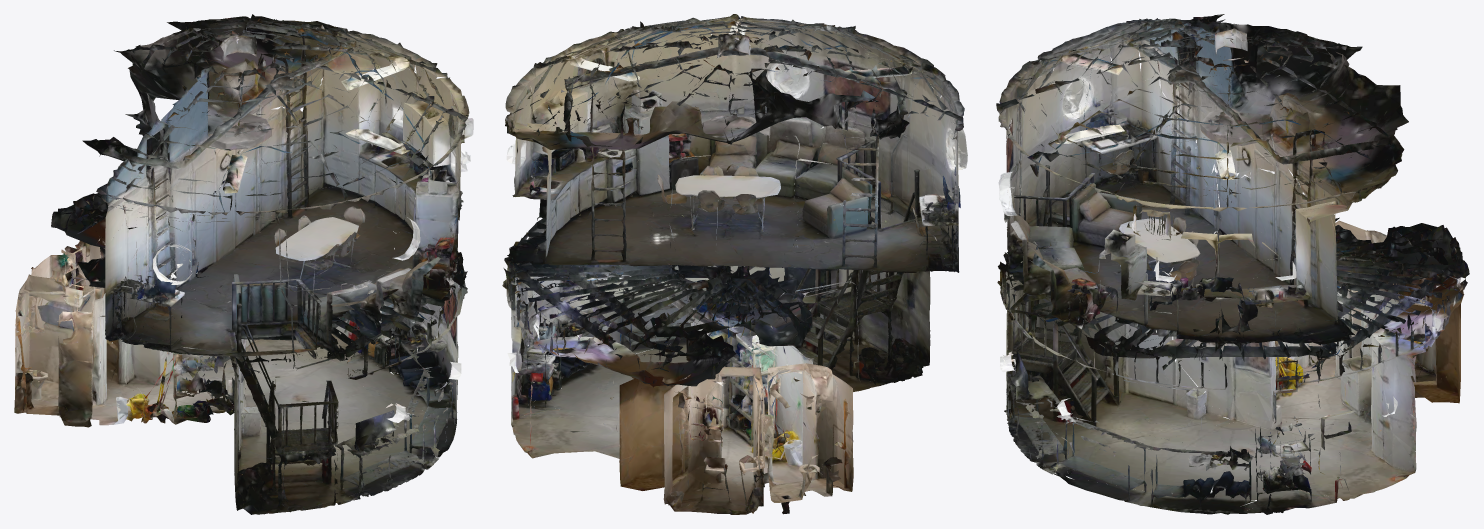
Rendered from mdrs-hab.glb.
3 views of the same model, side by side, from view 1: azimuth 30°, elevation 25°; view 2: azimuth 150°, elevation 25°; view 3: azimuth 270°, elevation 25° (orthographic).
Visible parts, largest first — view 1: Chunk0_Chunk0_Color_Mat_0, Chunk3_Chunk3_Color_Mat_0, Chunk2_Chunk2_Color_Mat_0, Chunk1_Chunk1_Color_Mat_0, Chunk4_Chunk4_Color_Mat_0; view 2: Chunk0_Chunk0_Color_Mat_0, Chunk1_Chunk1_Color_Mat_0, Chunk3_Chunk3_Color_Mat_0, Chunk2_Chunk2_Color_Mat_0, Chunk4_Chunk4_Color_Mat_0; view 3: Chunk3_Chunk3_Color_Mat_0, Chunk0_Chunk0_Color_Mat_0, Chunk2_Chunk2_Color_Mat_0, Chunk1_Chunk1_Color_Mat_0, Chunk4_Chunk4_Color_Mat_0.
Boxes of the visible parts, x1,y1,x2,y2 form: Chunk0_Chunk0_Color_Mat_0: (191,65,473,457); Chunk3_Chunk3_Color_Mat_0: (105,167,445,514); Chunk2_Chunk2_Color_Mat_0: (82,14,460,247); Chunk1_Chunk1_Color_Mat_0: (14,187,414,427); Chunk4_Chunk4_Color_Mat_0: (170,179,417,420); Chunk0_Chunk0_Color_Mat_0: (506,22,832,391); Chunk1_Chunk1_Color_Mat_0: (511,282,853,514); Chunk3_Chunk3_Color_Mat_0: (603,65,967,392); Chunk2_Chunk2_Color_Mat_0: (505,14,964,190); Chunk4_Chunk4_Color_Mat_0: (502,232,797,423); Chunk3_Chunk3_Color_Mat_0: (997,50,1238,492); Chunk0_Chunk0_Color_Mat_0: (998,167,1355,514); Chunk2_Chunk2_Color_Mat_0: (996,14,1408,225); Chunk1_Chunk1_Color_Mat_0: (1197,217,1469,506); Chunk4_Chunk4_Color_Mat_0: (1151,251,1443,514).
Size of the model in its own units: 7.82 by 7.5 by 8.23.
Materials: 5 (5 with a texture image).
